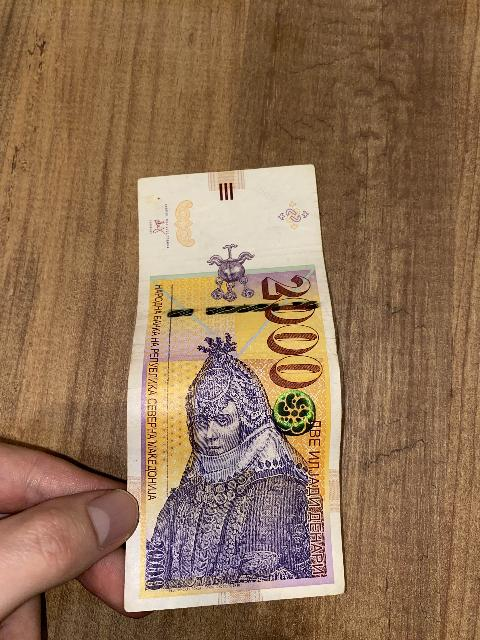2000_note: (126, 167, 343, 610)
